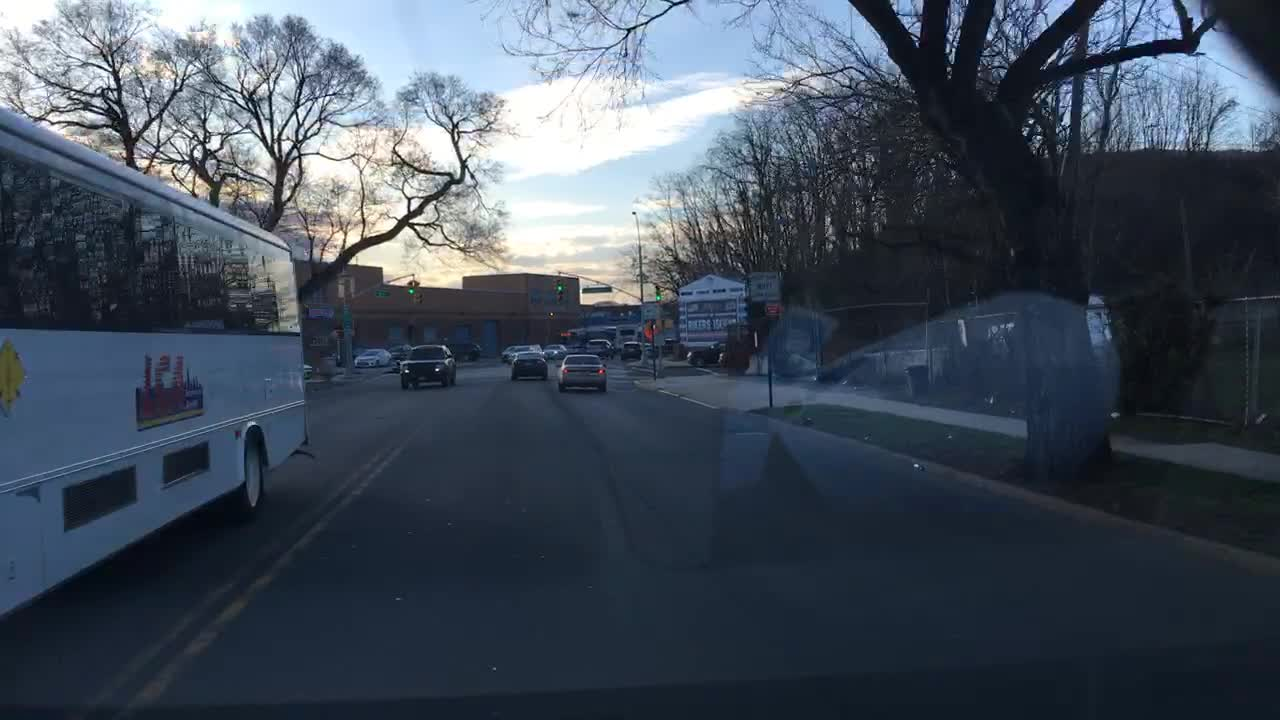bus: (0, 95, 314, 625)
car: (397, 342, 459, 390), (686, 340, 756, 369), (556, 354, 610, 391), (509, 348, 549, 382), (447, 340, 482, 361), (355, 347, 391, 367), (585, 337, 614, 359), (618, 340, 643, 361), (507, 346, 536, 364), (541, 343, 568, 360), (390, 343, 411, 360), (500, 345, 512, 365), (303, 361, 313, 382), (568, 342, 584, 353), (645, 347, 657, 358)
traffic light: (412, 285, 424, 306), (556, 280, 563, 301), (408, 285, 415, 305), (654, 282, 661, 301), (552, 280, 558, 300)
traffic sign: (748, 273, 781, 301), (642, 304, 660, 322), (764, 303, 781, 316), (582, 286, 614, 292), (375, 287, 390, 298), (342, 319, 354, 330)
